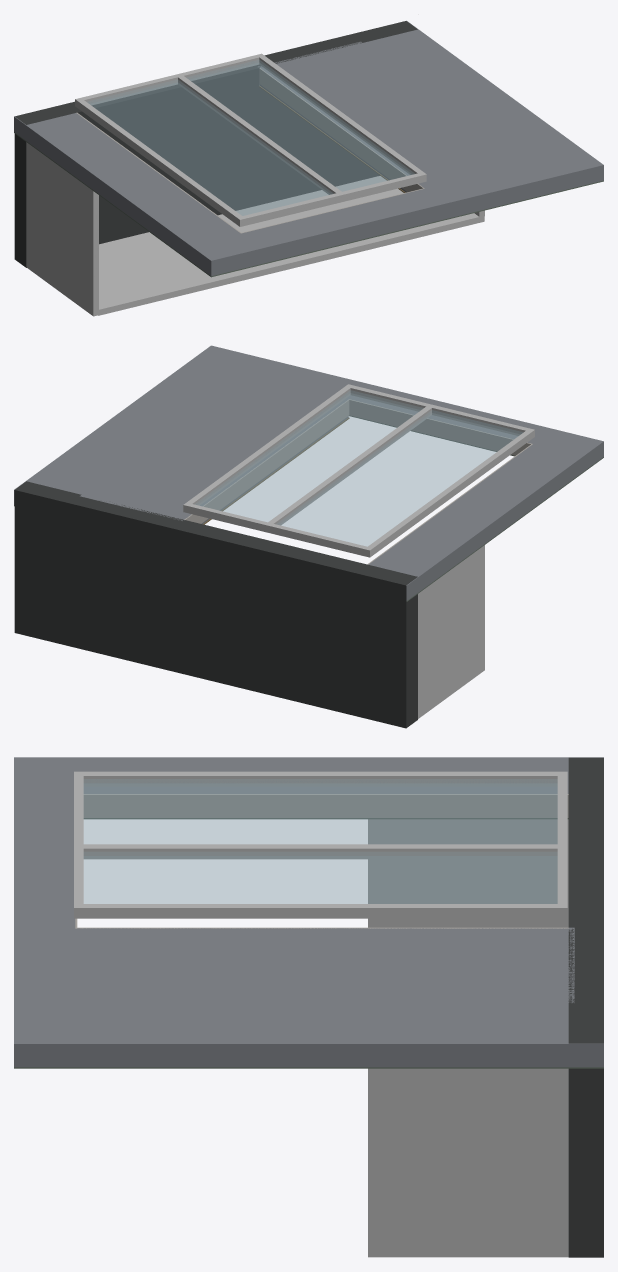
File: BRU_ML_T_S_OKT_Октябрьская (2).glb
3 views of the same model, one above another, from view 1: azimuth 30°, elevation 25°; view 2: azimuth 150°, elevation 25°; view 3: azimuth 270°, elevation 25° (orthographic). The views are drawn at different scales.
Visible parts, largest first — view 1: id-8, id-569, id-614, id-793 (×2), id-14, id-768, id-20, id-11; view 2: id-614, id-8, id-569, id-14, id-768, id-793, id-20, id-22; view 3: id-8, id-569, id-793 (×3), id-14, id-768, id-614, id-21, id-11, id-20.
Part boxes in pixels (bbox=[...]): id-8: bbox=[14, 20, 603, 276]; id-569: bbox=[87, 60, 414, 215]; id-614: bbox=[14, 21, 417, 267]; id-793 (×2): bbox=[26, 142, 484, 316]; id-14: bbox=[258, 41, 526, 192]; id-768: bbox=[75, 53, 426, 226]; id-20: bbox=[259, 68, 424, 192]; id-11: bbox=[14, 132, 603, 277]; id-614: bbox=[14, 481, 417, 728]; id-8: bbox=[14, 345, 603, 600]; id-569: bbox=[195, 390, 522, 546]; id-14: bbox=[80, 374, 348, 524]; id-768: bbox=[183, 384, 534, 557]; id-793: bbox=[418, 545, 484, 718]; id-20: bbox=[184, 399, 349, 523]; id-22: bbox=[349, 399, 531, 455]; id-8: bbox=[14, 757, 603, 1067]; id-569: bbox=[84, 779, 557, 903]; id-793 (×3): bbox=[368, 819, 568, 1257]; id-14: bbox=[77, 927, 574, 1003]; id-768: bbox=[74, 771, 567, 918]; id-614: bbox=[568, 757, 603, 1257]; id-21: bbox=[83, 794, 568, 817]; id-11: bbox=[14, 818, 603, 1068]; id-20: bbox=[75, 927, 568, 928].
Size of the model in its own units: 3.45 by 1.33 by 3.
